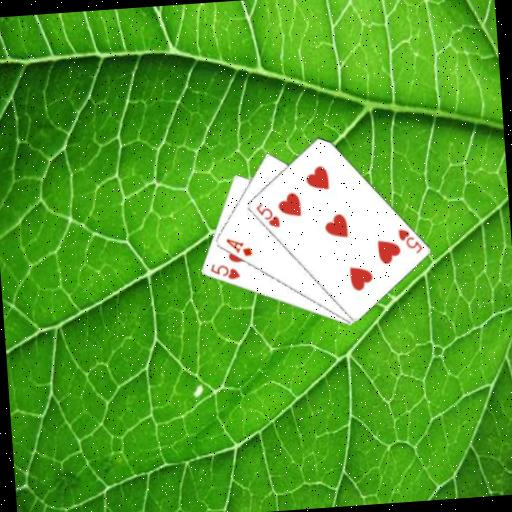5H: (395, 225, 425, 257), (252, 199, 281, 231), (207, 259, 242, 283)
AD: (222, 234, 254, 260)
